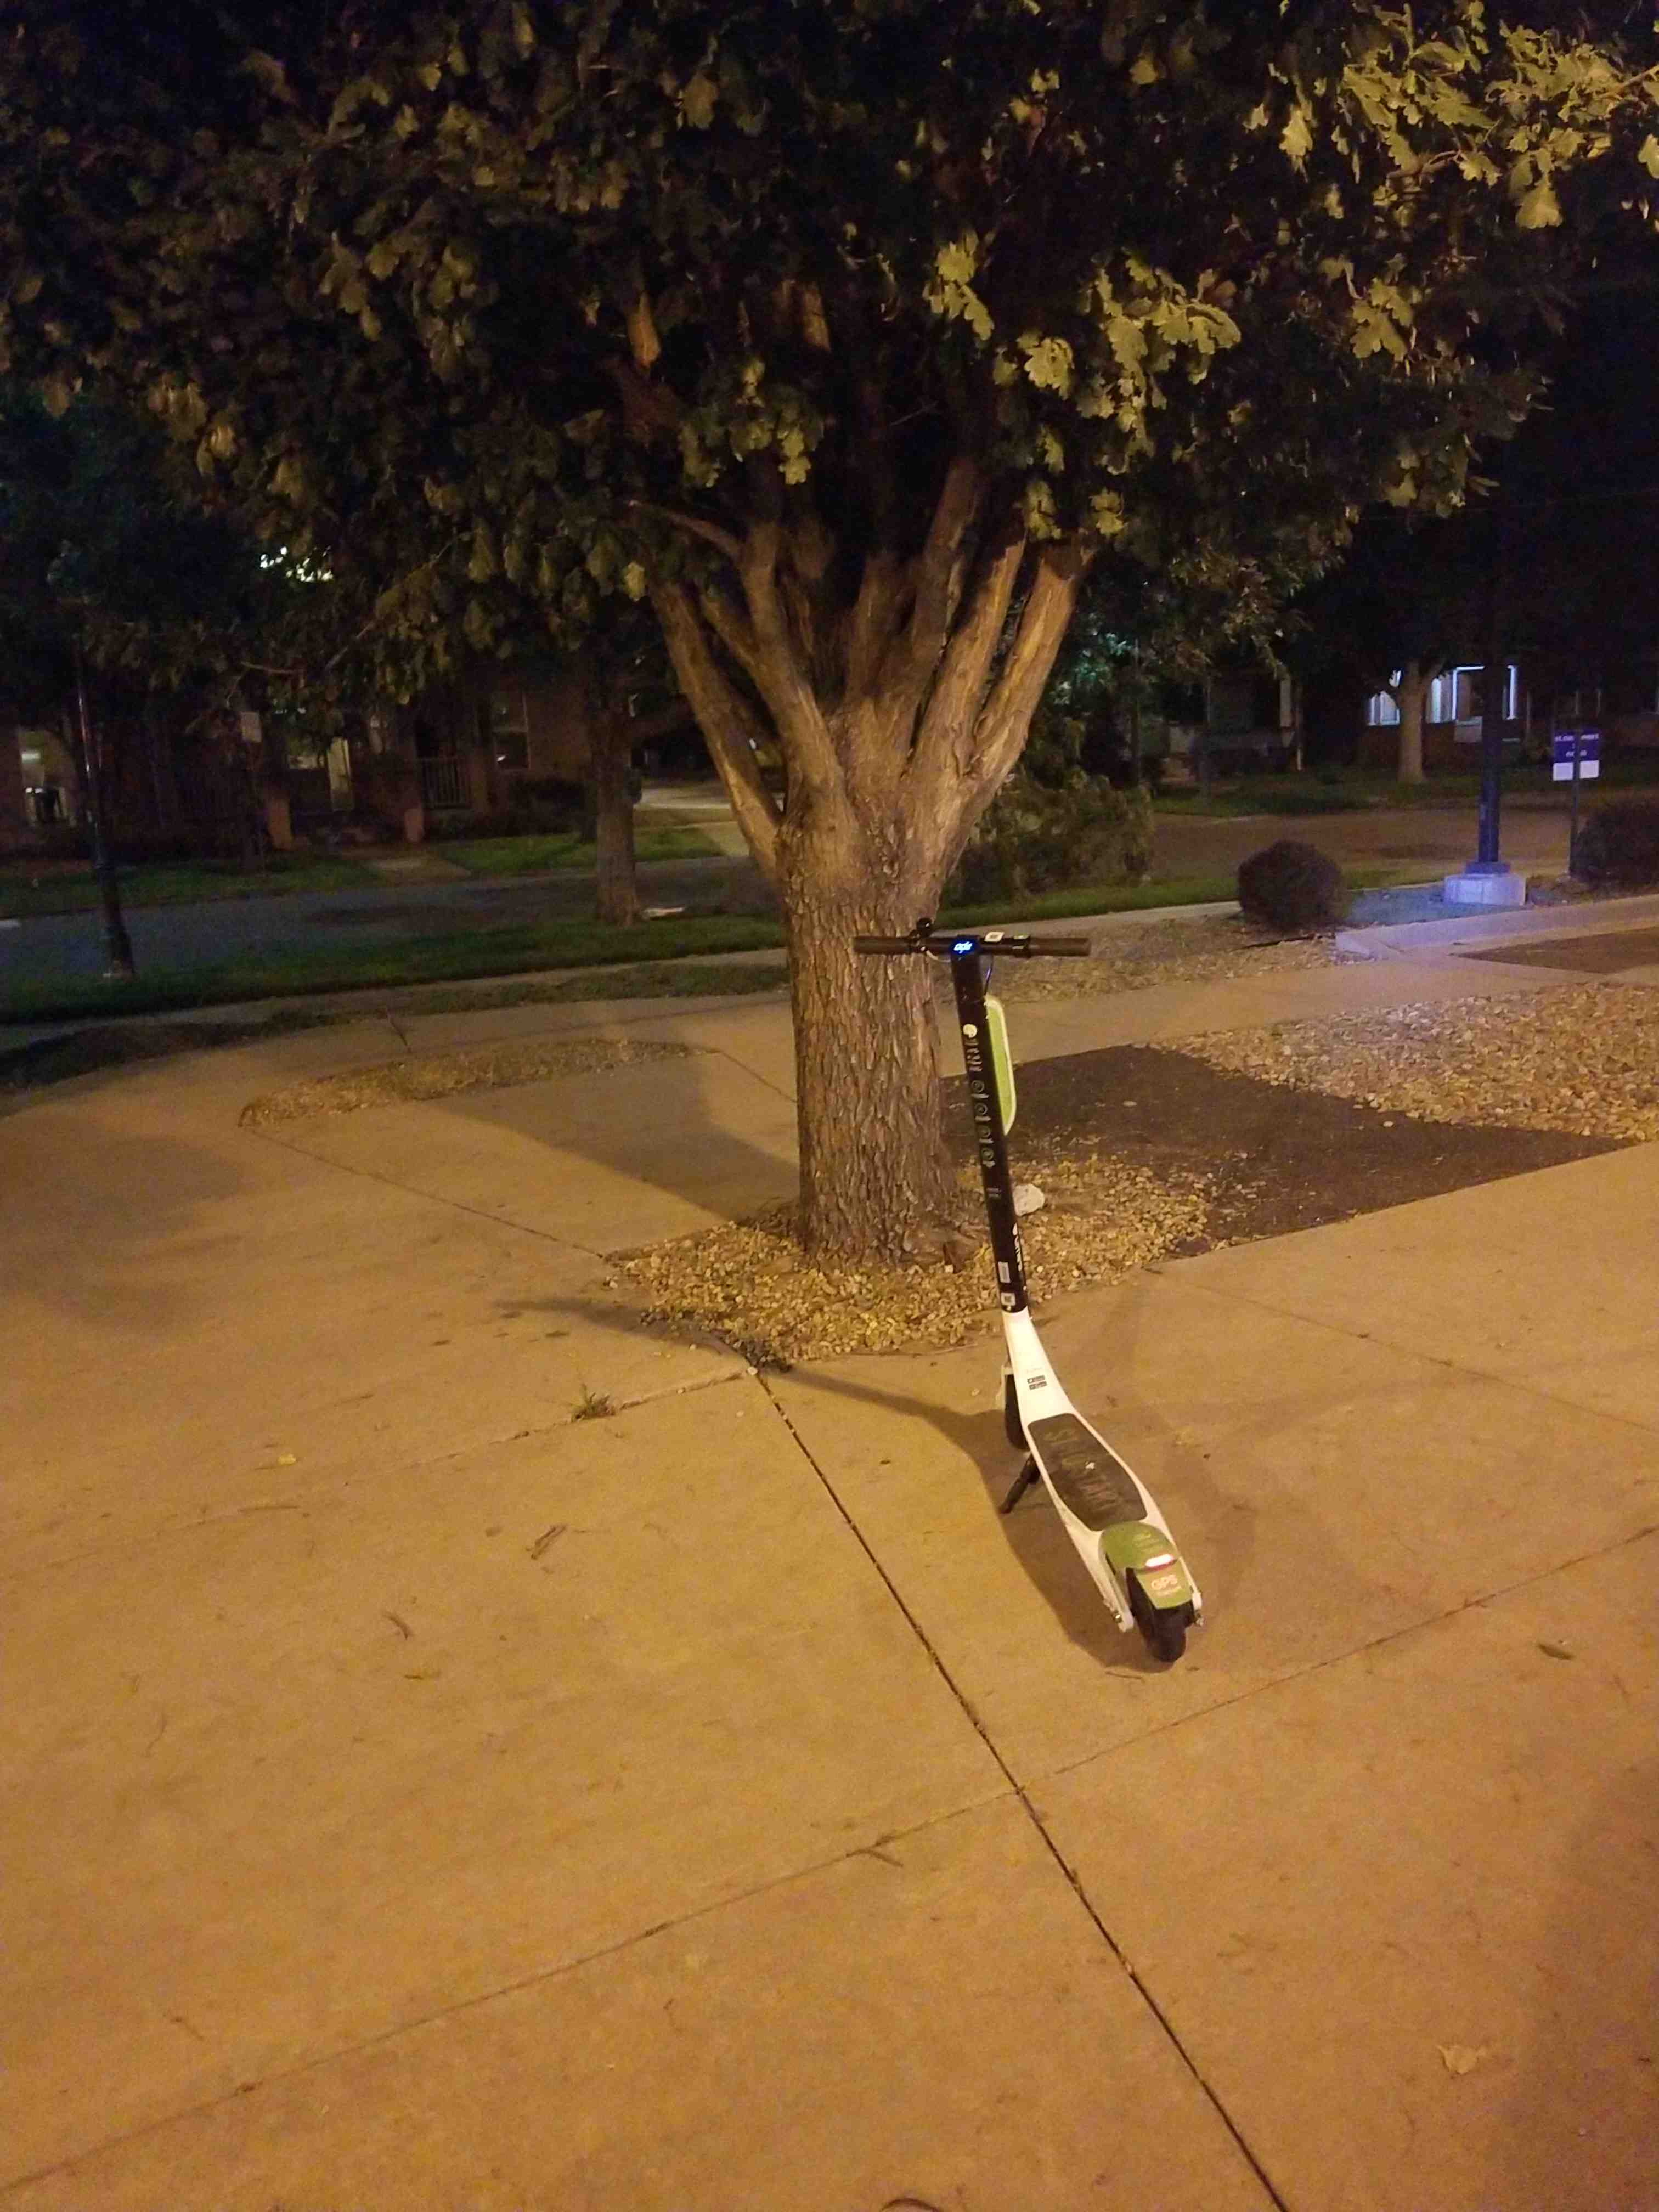scooter: (863, 899, 1225, 1700)
